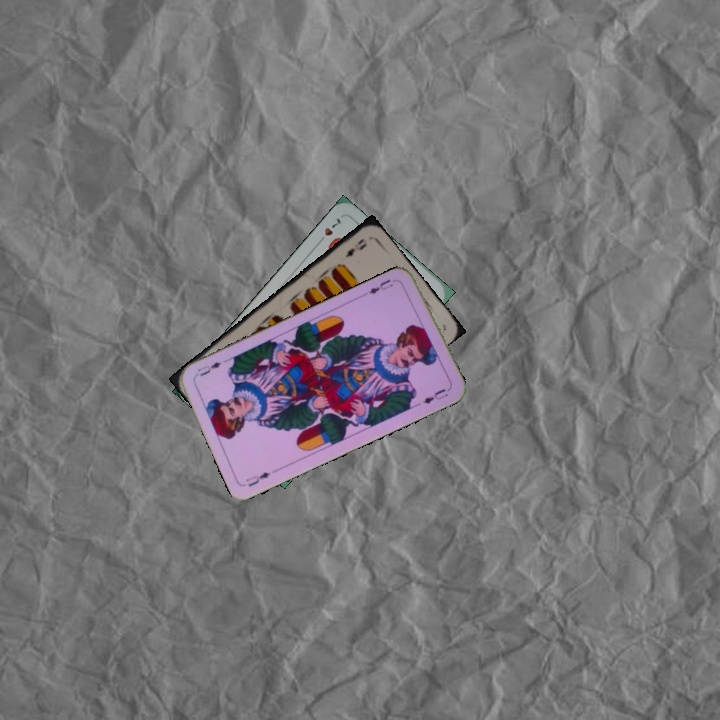E9: (341, 234, 369, 260)
EU: (365, 275, 401, 297), (242, 468, 273, 490)
H7: (314, 214, 344, 247)
